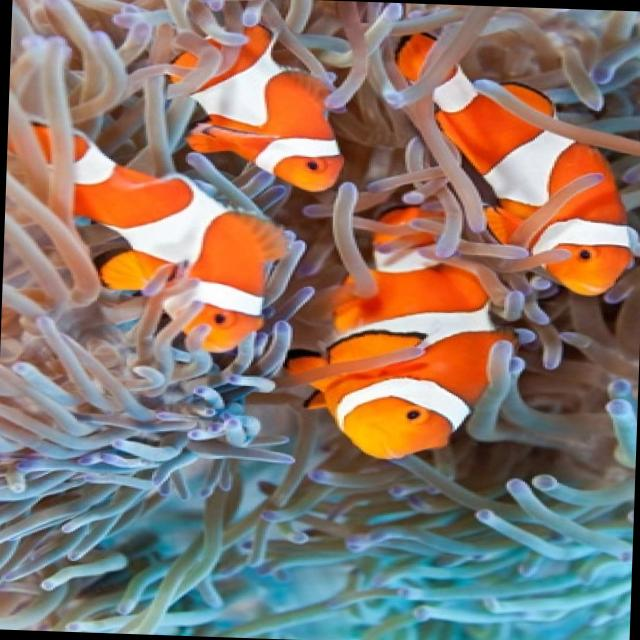ClownFish: (383, 28, 640, 295), (12, 118, 296, 351), (282, 216, 509, 462), (170, 22, 344, 192)
